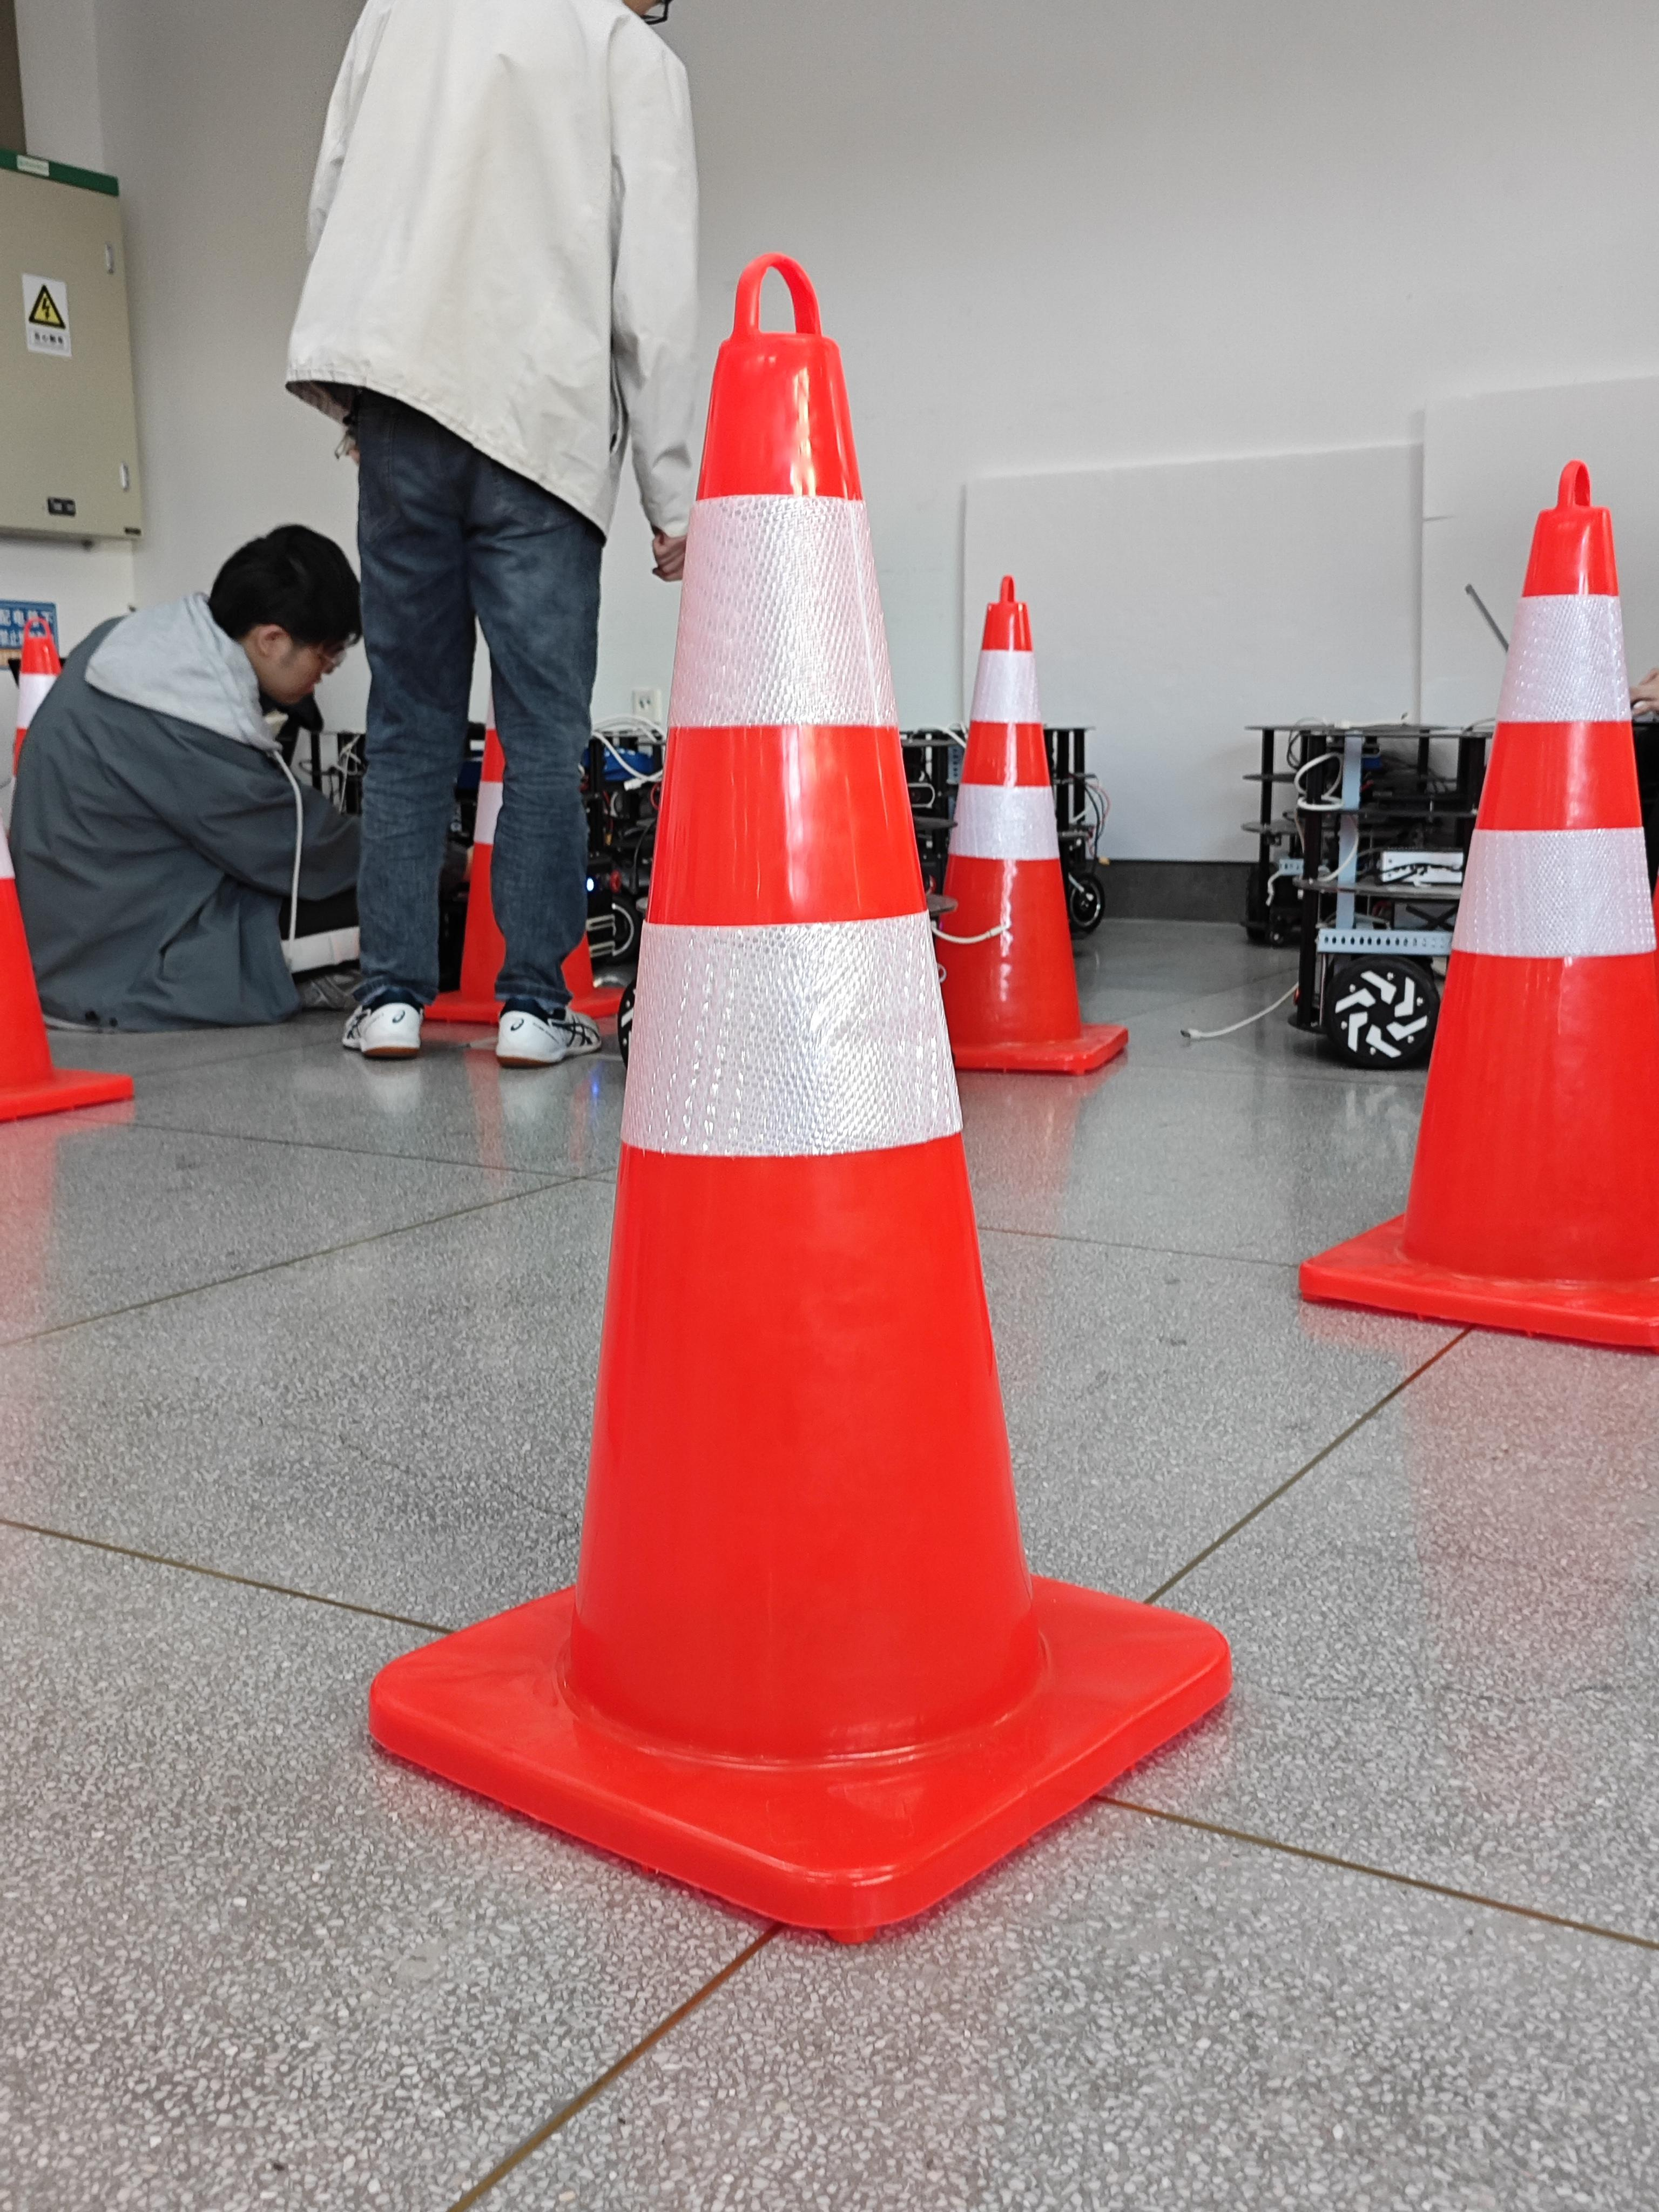cone: (371, 258, 1229, 1939), (1300, 462, 1659, 1350), (939, 577, 1127, 1075), (0, 833, 134, 1122), (425, 705, 505, 1022), (14, 615, 61, 775)
